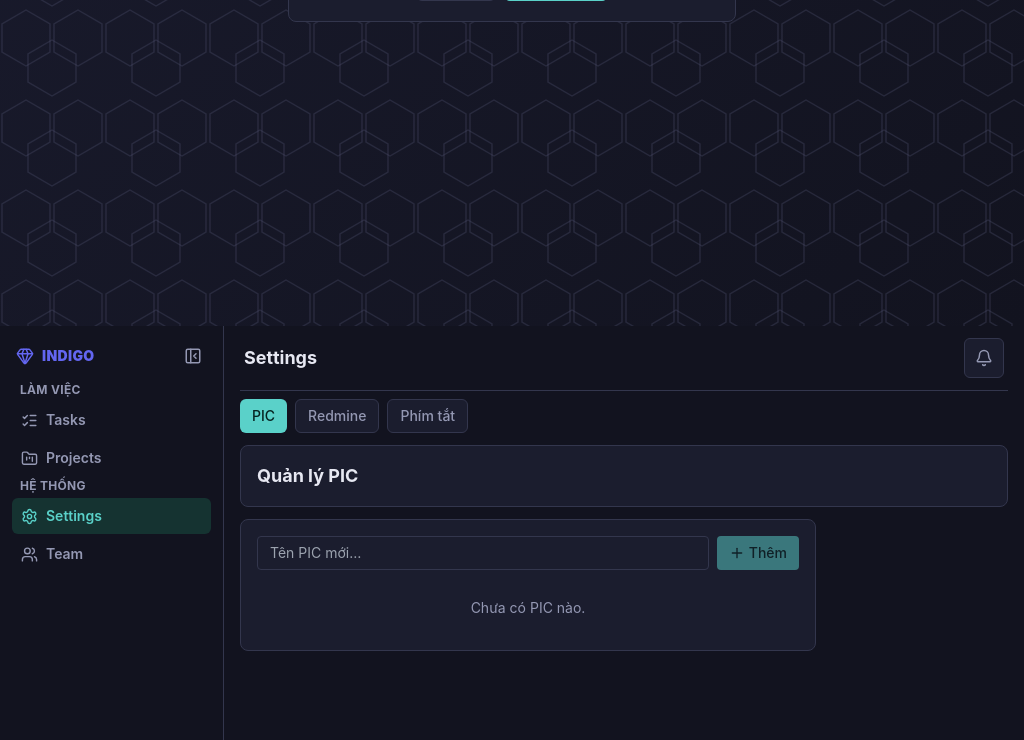
Scenario: App() — ẩn tab theo team_feature_visibility (CR-20260913 FR-7) › nút thu gọn sidebar -> ẩn nhãn chữ (còn icon bấm được), bấm lại -> hiện lại; nhớ qua localStorage
The image size is (1024, 740).
(page scrolled)
Expected: the button "Projects" is shown, top-left (12, 440), bottom-right (211, 476)
Expected: the text "Indigo" is shown, top-left (42, 346), bottom-right (95, 366)
Click the button named "Thu gọn menu". click: (193, 356)
box: top-left (179, 342), bottom-right (207, 370)
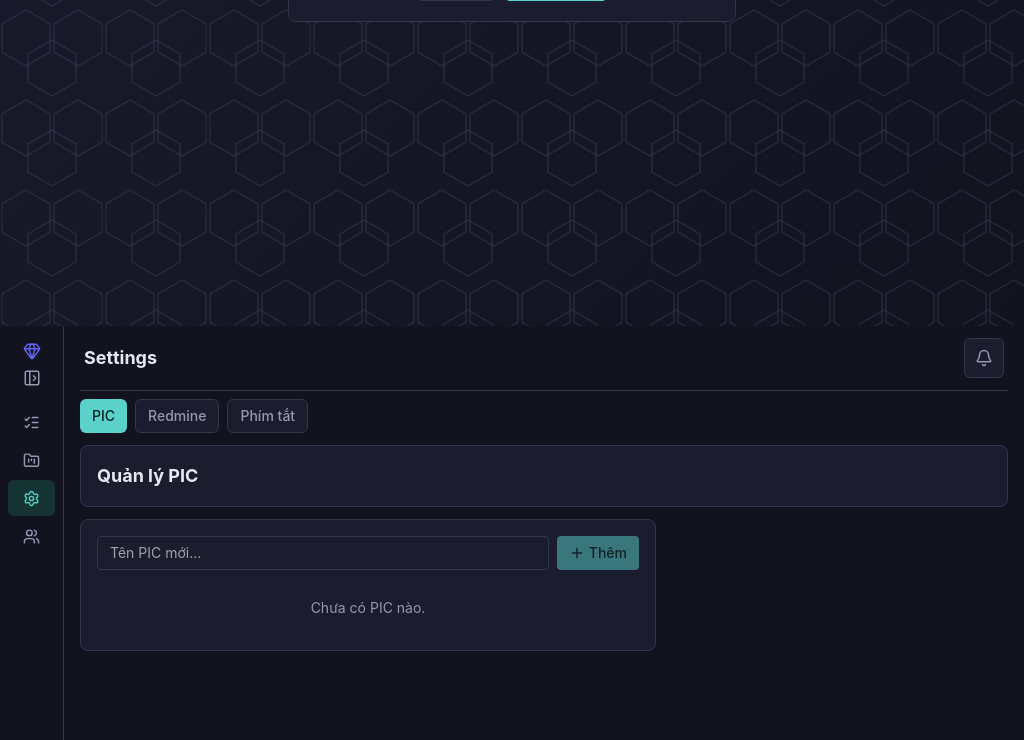
Expected: the text "Indigo" is gone
// Điều hướng vẫn hoạt động bình thường khi đang thu gọn — không phải chỉ còn icon trang trí.
Click the button named "Projects". click: (32, 460)
box: top-left (8, 442), bottom-right (55, 478)
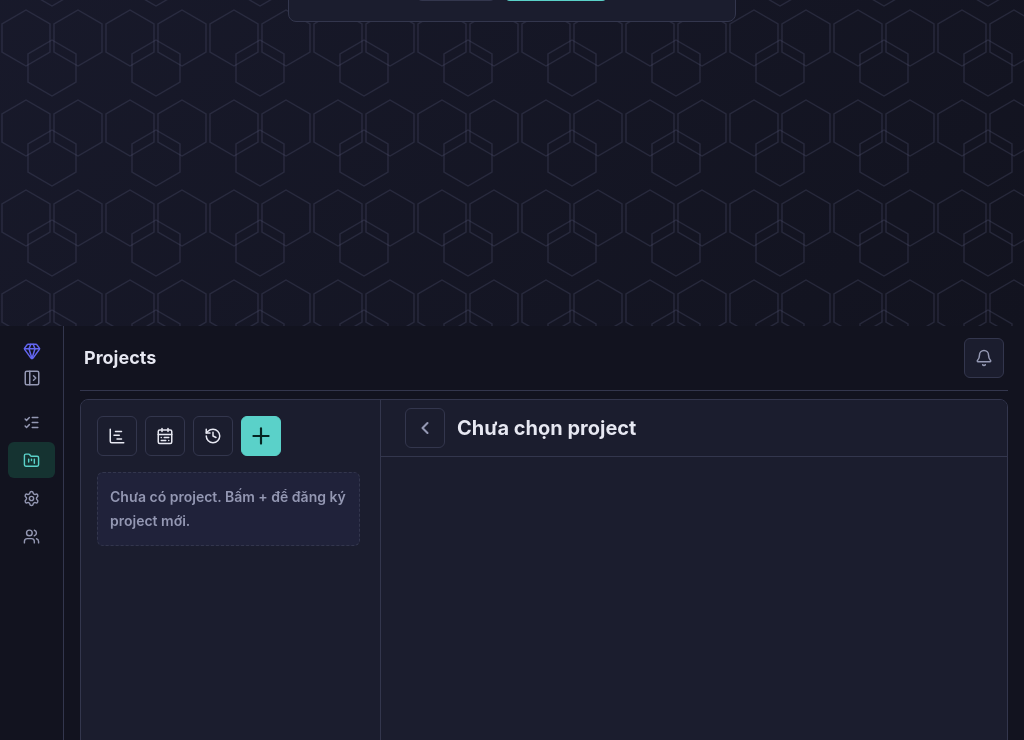
Expected: the button named "Projects" has class "side-item-active", top-left (8, 442), bottom-right (55, 478)
Click the button named "Mở rộng menu". click: (32, 378)
box: top-left (18, 364), bottom-right (46, 392)
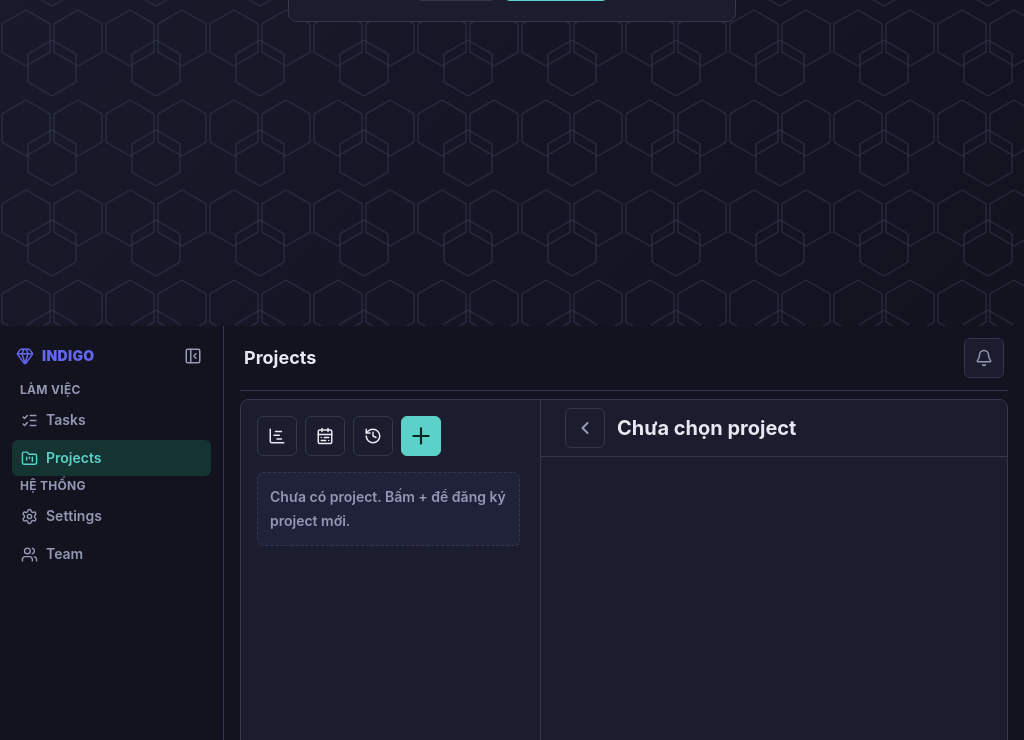
Expected: the text "Indigo" is shown, top-left (42, 346), bottom-right (95, 366)
